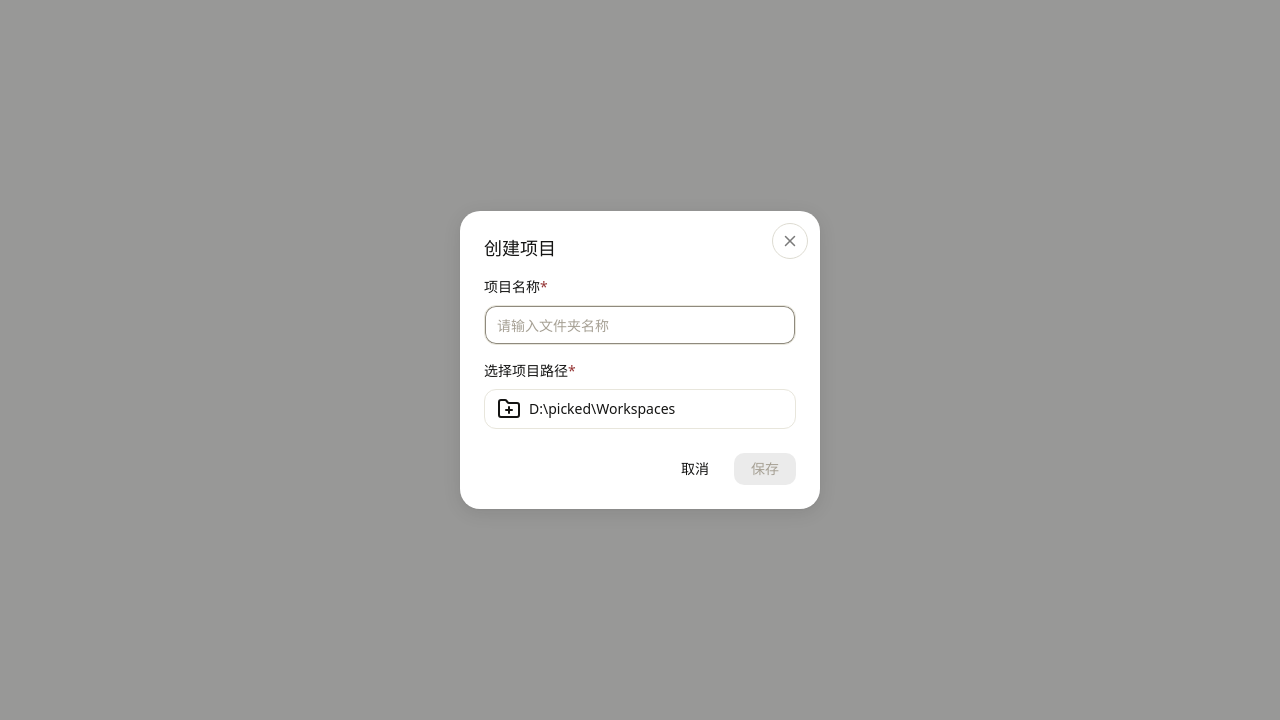
CreateProjectDialog › blank：路径随名称变成"基底 + 同名子目录"；名称为空时保存禁用
expect the text with test id "project-path-value" reads "D:\\picked\\Workspaces": met, box top-left (529, 399), bottom-right (675, 418)
expect the button with test id "project-create-save" is disabled: met, box top-left (734, 453), bottom-right (796, 485)
Type "插件" into the field with test id "project-name-input" at {"x": 640, "y": 325}, box top-left (484, 305), bottom-right (796, 345)
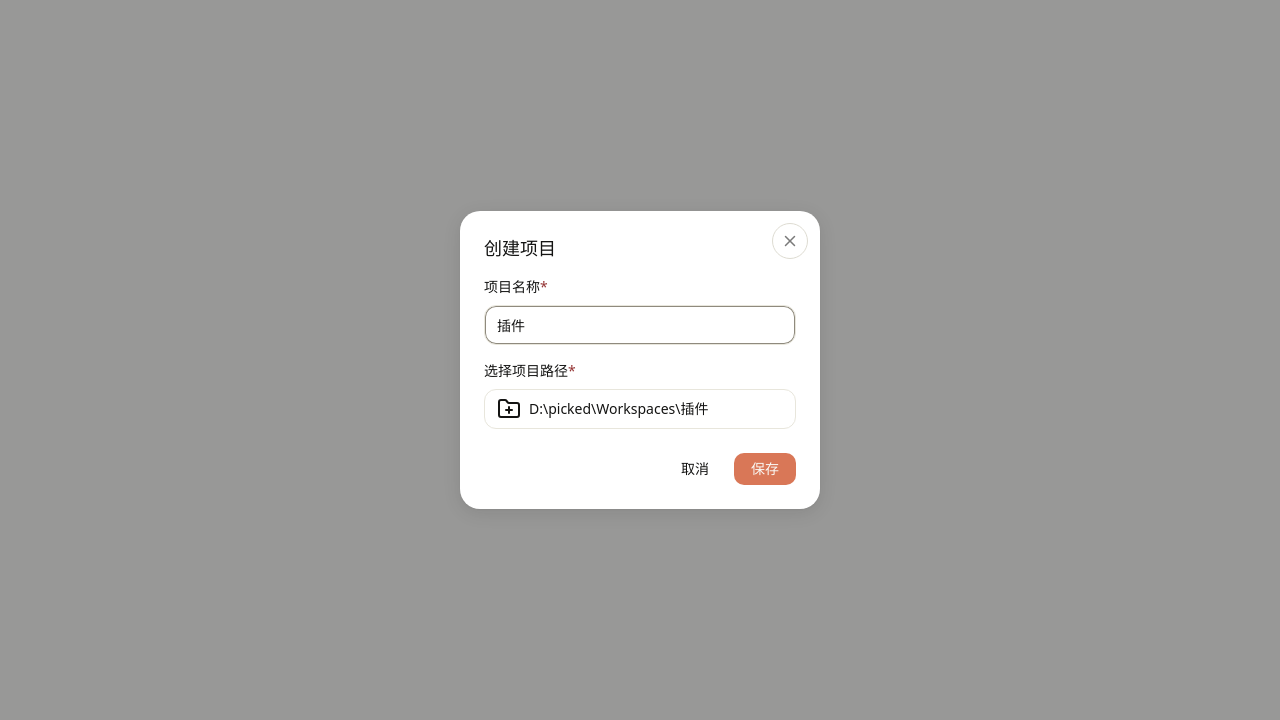
expect the button with test id "project-create-save" is enabled: met, box top-left (734, 453), bottom-right (796, 485)
